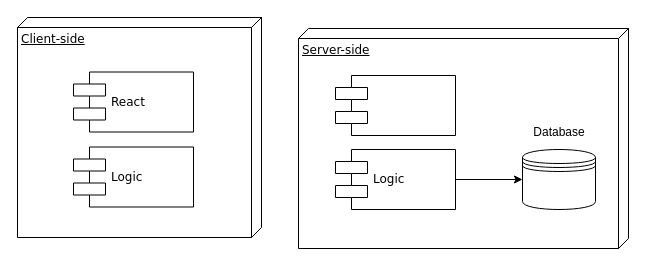
The diagram is 646 pixels wide and 277 high, and some of its shapes have lost their labels. Here are the shapes that lost their labels. From the top down, the centre of each, then its label:
At [395,105]: "Node JS".
At [559,179]: "Mongo DB".
